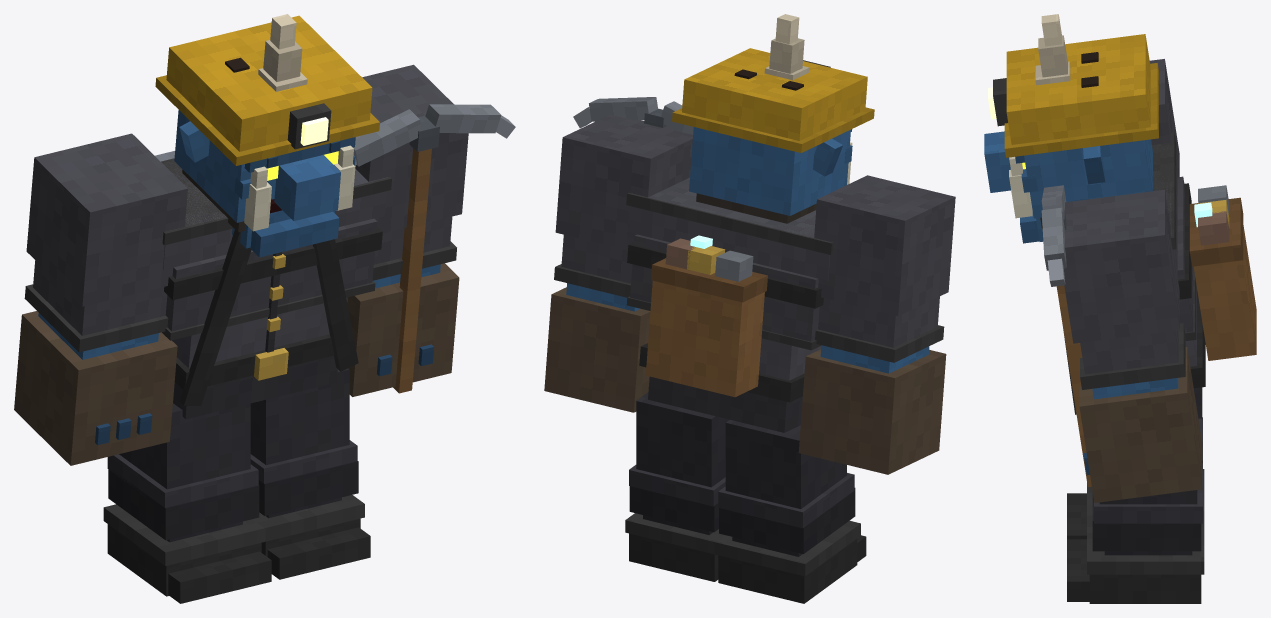
The model's file is ogre_mineur.glb.
3 views of the same model, side by side, from view 1: azimuth 30°, elevation 25°; view 2: azimuth 150°, elevation 25°; view 3: azimuth 270°, elevation 25° (orthographic). The views are drawn at different scales.
Visible parts, largest first — view 1: ArmR, Head, Torso, LegR, ArmL, LegL, HandL; view 2: Torso, ArmR, ArmL, Head, LegR, LegL, HandL; view 3: ArmL, Head, Torso, LegL, HandL, LegR, ArmR.
Part boxes in pixels (bbox=[...]): ArmR: bbox=[14, 133, 187, 465]; Head: bbox=[155, 14, 379, 257]; Torso: bbox=[155, 151, 391, 419]; LegR: bbox=[103, 403, 271, 603]; ArmL: bbox=[347, 64, 468, 396]; LegL: bbox=[250, 368, 370, 579]; HandL: bbox=[353, 104, 515, 393]; Torso: bbox=[626, 177, 833, 432]; ArmR: bbox=[798, 175, 955, 474]; ArmL: bbox=[544, 114, 692, 412]; Head: bbox=[672, 14, 874, 223]; LegR: bbox=[714, 420, 866, 603]; LegL: bbox=[625, 392, 729, 581]; HandL: bbox=[573, 97, 693, 134]; ArmL: bbox=[1064, 189, 1202, 502]; Head: bbox=[984, 14, 1158, 243]; Torso: bbox=[1064, 132, 1256, 418]; LegL: bbox=[1067, 463, 1204, 603]; HandL: bbox=[1041, 185, 1091, 486]; LegR: bbox=[1067, 417, 1204, 539]; ArmR: bbox=[1149, 59, 1197, 290].
Size of the model in its own units: 1.62 by 2.09 by 0.9502.
42 materials, 42 textured.
